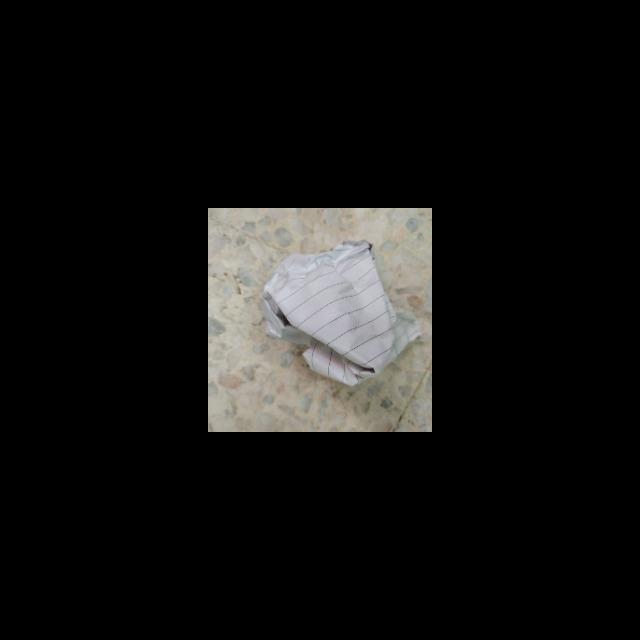paper: (257, 236, 429, 387)
